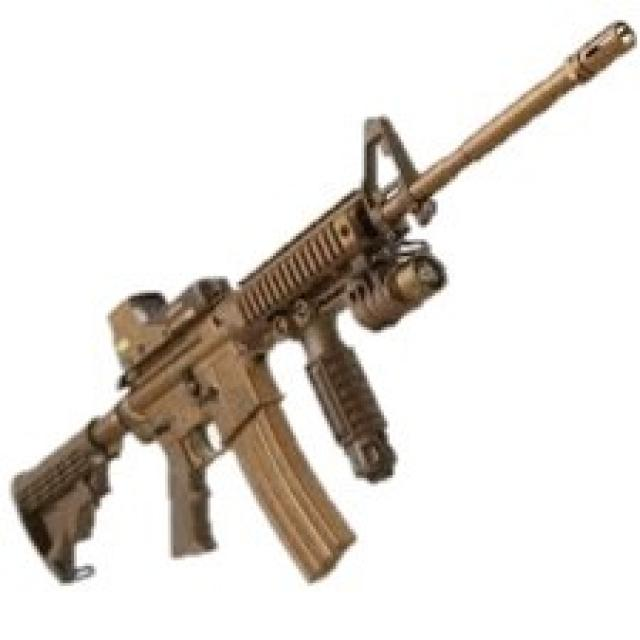rifle: (7, 18, 640, 612)
